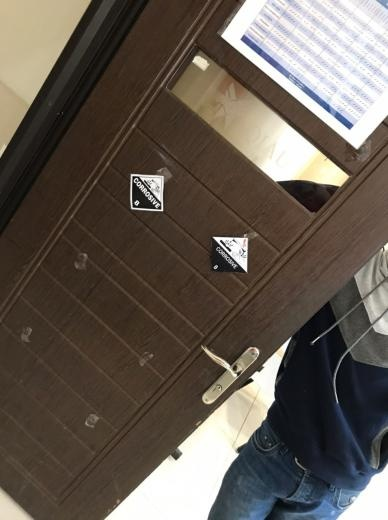Corrosive: (211, 237, 248, 273), (130, 174, 164, 211)
